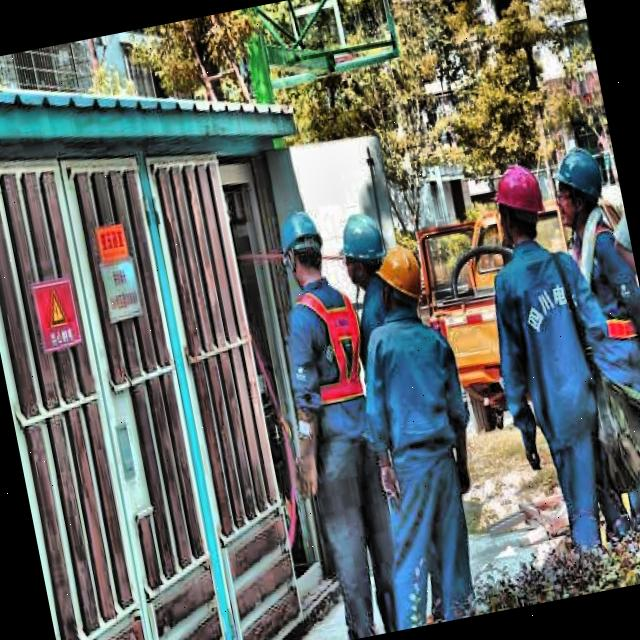helmet: (541, 132, 613, 232), (486, 153, 554, 256), (363, 235, 431, 318), (329, 207, 392, 295), (274, 204, 332, 292)
